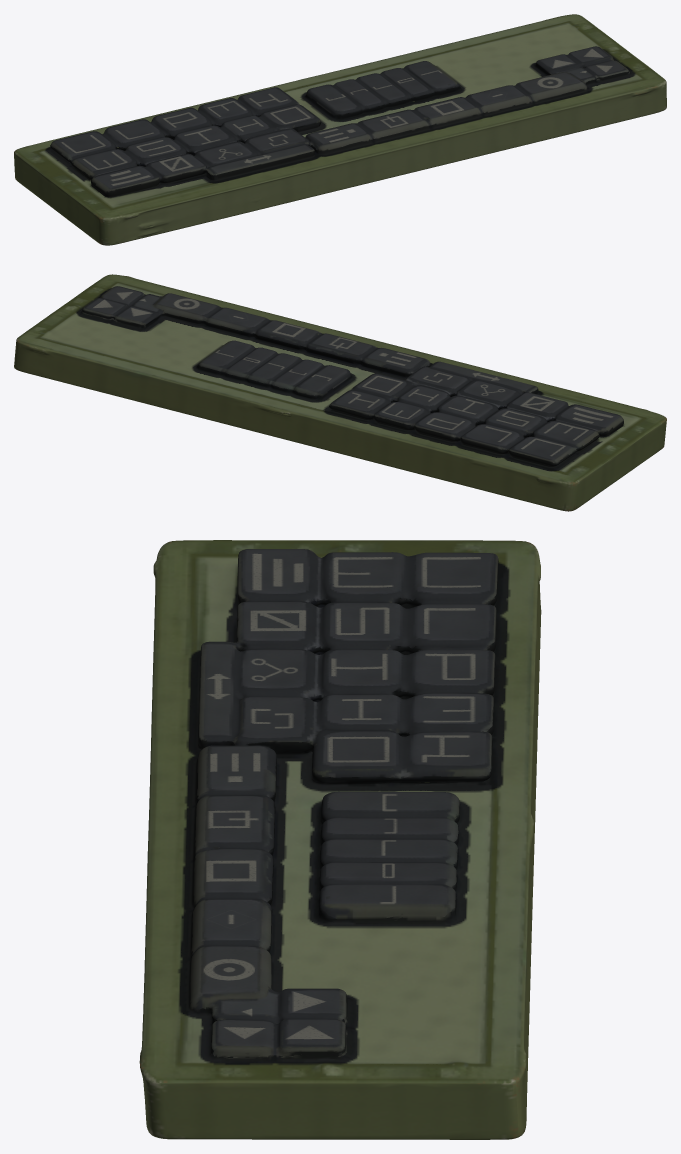
Rendered from keyboard.glb.
3 renders of one model, top to bottom at view 1: azimuth 30°, elevation 25°; view 2: azimuth 150°, elevation 25°; view 3: azimuth 270°, elevation 25°, orthographic. The views are drawn at different scales.
Parts seen in each view (by area): view 1: Keyboard; view 2: Keyboard; view 3: Keyboard.
Part boxes in pixels (x1,y1,x2,y2): Keyboard: [14, 14, 666, 245]; Keyboard: [14, 274, 666, 511]; Keyboard: [139, 540, 541, 1139].
Bounding box in the file's own units: 0.8 × 0.055 × 0.2456.
1 material, 1 textured.
